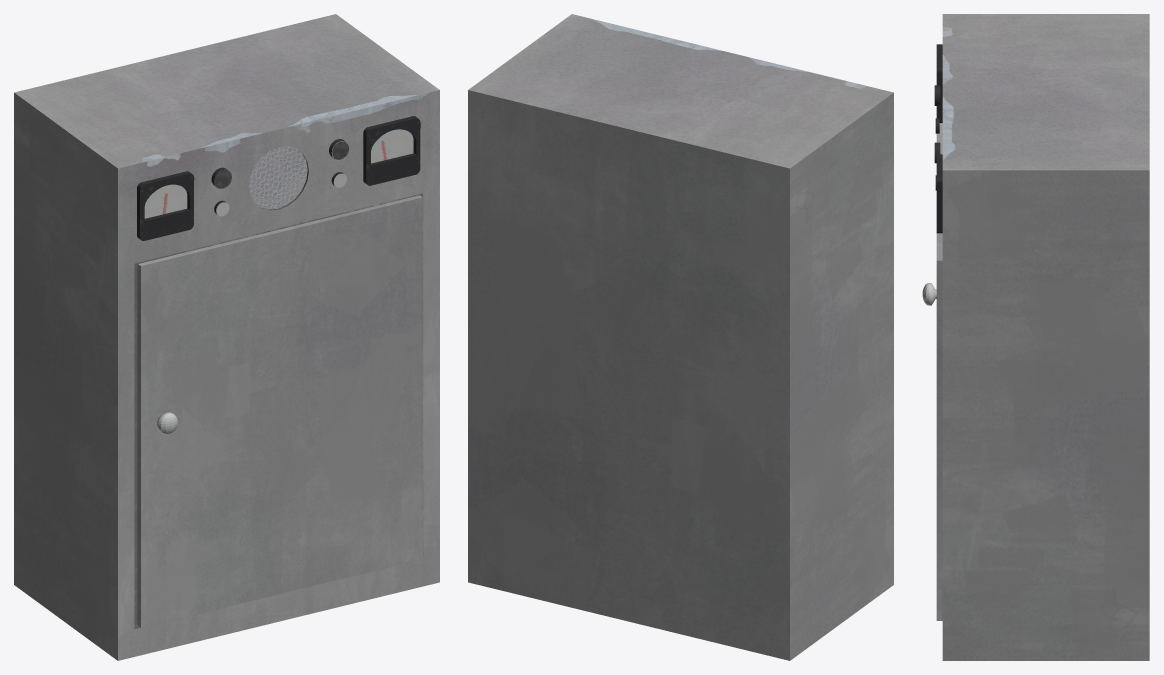
The model's file is GLB_Quebec_RadioRepeater.glb.
3 views of the same model, side by side, from view 1: azimuth 30°, elevation 25°; view 2: azimuth 150°, elevation 25°; view 3: azimuth 270°, elevation 25° (orthographic).
Parts seen in each view (by area): view 1: knob13.001; view 2: knob13.001; view 3: knob13.001.
Boxes of the visible parts, left/top/right/bottom form: knob13.001: left=14, top=14, right=439, bottom=660; knob13.001: left=468, top=14, right=893, bottom=660; knob13.001: left=922, top=14, right=1149, bottom=660.
Bounding box in the file's own units: 3.54 × 5.17 × 2.17.
Materials: 1 (1 with a texture image).
